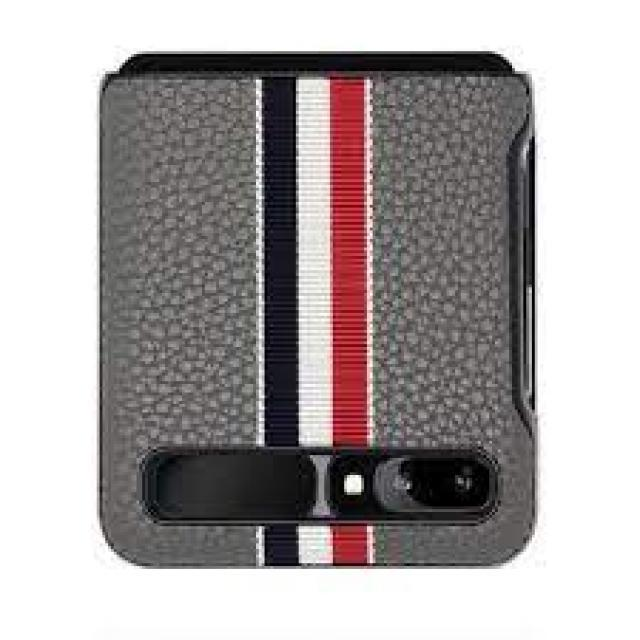lens: (134, 448, 497, 522)
phone: (101, 49, 541, 568)
